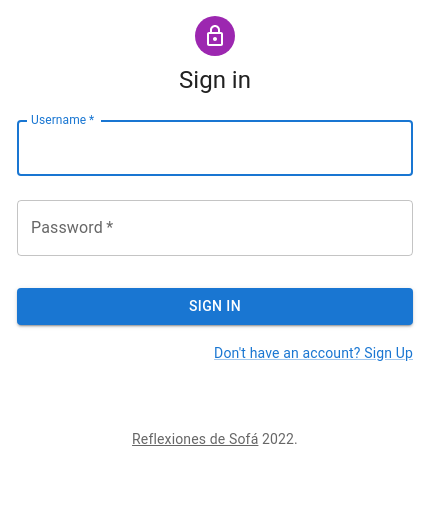
Display error alert when there is no response status.
The image size is (431, 531).
Type "username" into the field with id "username".
click(215, 148); type("username")  # box [17,120,413,176]
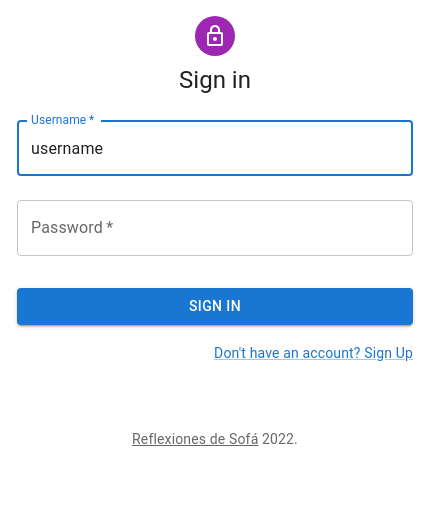
Type "password" into the password field labelled "Password *".
click(215, 228); type("password")  # box [17,200,413,256]
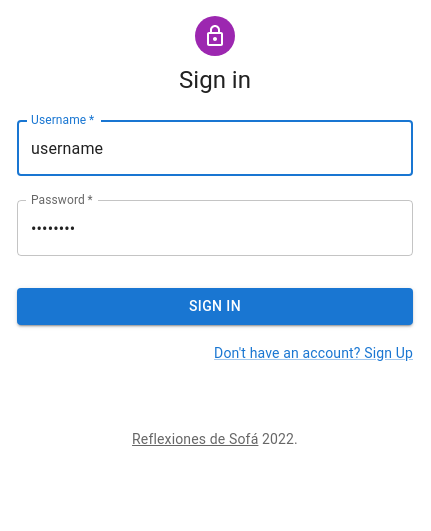
Click the button with test id "sign-in-button".
click(215, 306)  # box [17,288,413,324]
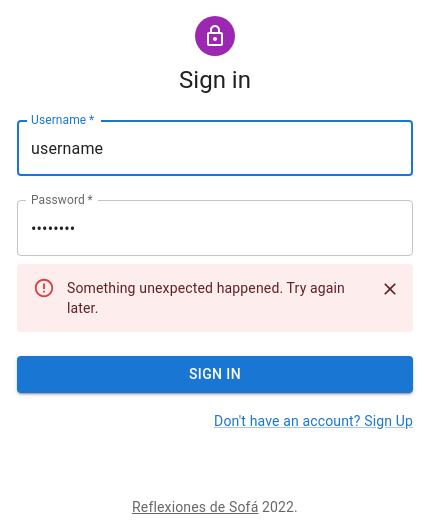
Expected: the message "Something unexpected happened. Try again later." is shown, [17,264,413,332]
Expected: the message with test id "login-error-alert" reads "Something unexpected happened. Try again later.", [67,280,345,316]
